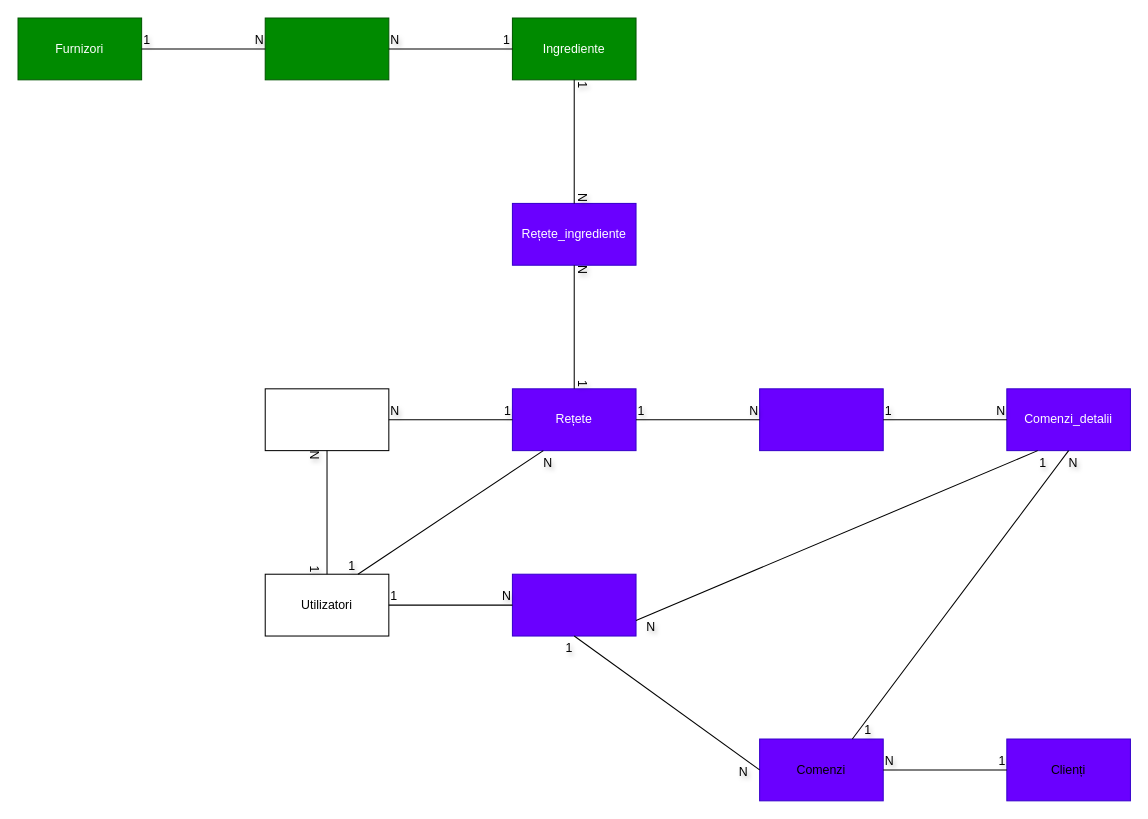
Some shapes in this 1148 by 819 pixel diagram are drawn without their labels. The shapes that lost their labels are listed below. From the top down, each one's box as (x1, y1, x2, y2) in pixels, then its label:
(264, 17, 389, 80): Loturi
(264, 388, 389, 451): Generări_ai
(759, 388, 883, 451): Produse
(511, 573, 636, 636): Producție
